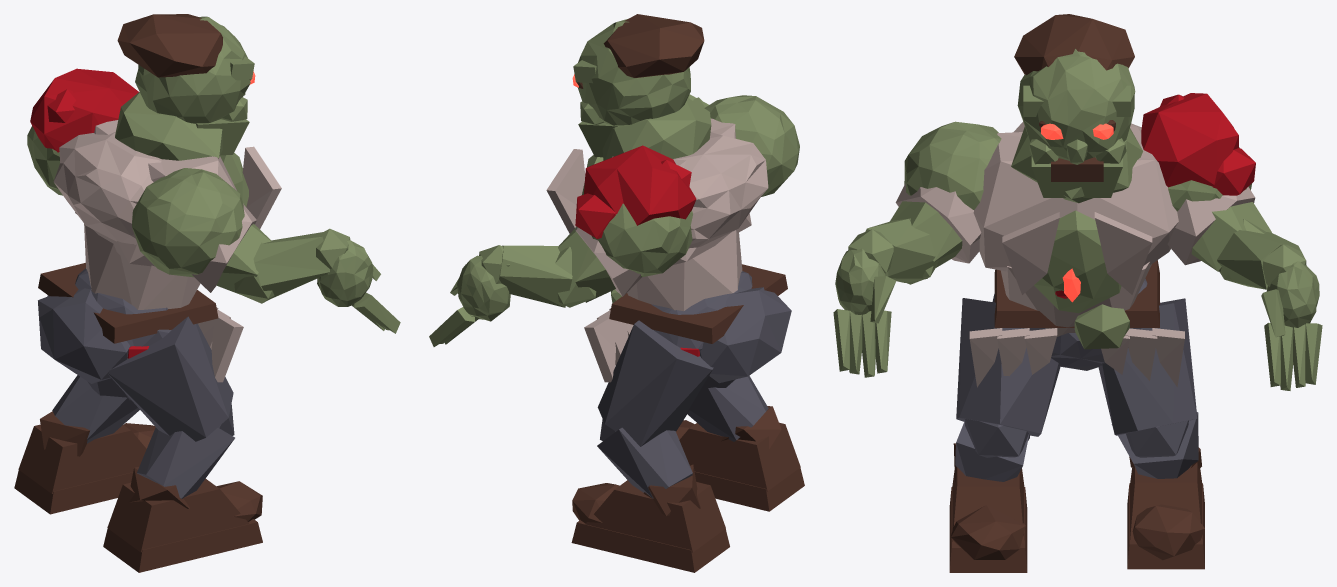
The model's file is inf.alpha.lod1.glb.
The picture shows the model from 3 angles, left to right: view 1: azimuth 30°, elevation 25°; view 2: azimuth 150°, elevation 25°; view 3: azimuth 270°, elevation 25°; orthographic projection. The views are drawn at different scales.
Visible parts, largest first — view 1: torso, head, armR, footR, hip, footL, legR, armL, shinR, handR, foreArmR, shinL; view 2: torso, armL, head, footL, hip, legL, footR, armR, foreArmL, shinL, handL, shinR; view 3: torso, head, armL, armR, footL, footR, handR, legR, handL, legL, hip, shinR (+3 smaller).
Boxes of the visible parts, x1,y1,x2,y2 form: torso: [53, 92, 281, 382]; head: [117, 14, 255, 155]; armR: [132, 168, 271, 294]; footR: [103, 467, 262, 572]; hip: [38, 263, 218, 383]; footL: [14, 411, 155, 514]; legR: [108, 316, 233, 441]; armL: [27, 68, 138, 195]; shinR: [137, 404, 234, 498]; handR: [316, 228, 400, 333]; foreArmR: [234, 232, 329, 303]; shinL: [52, 375, 139, 443]; torso: [546, 98, 768, 382]; armL: [558, 145, 696, 302]; head: [572, 14, 704, 157]; footL: [571, 464, 729, 572]; hip: [609, 264, 791, 383]; legL: [597, 320, 713, 446]; footR: [676, 406, 804, 511]; armR: [704, 95, 799, 196]; foreArmL: [499, 245, 596, 307]; shinL: [597, 419, 692, 498]; handL: [429, 245, 510, 346]; shinR: [687, 375, 768, 441]; torso: [969, 121, 1184, 387]; head: [1014, 14, 1135, 197]; armL: [1141, 93, 1271, 271]; armR: [890, 121, 1001, 267]; footL: [1127, 447, 1204, 569]; footR: [949, 443, 1027, 572]; handR: [833, 229, 895, 377]; legR: [956, 298, 1060, 436]; handL: [1261, 244, 1322, 390]; legL: [1098, 298, 1197, 435]; hip: [992, 260, 1159, 370]; shinR: [955, 419, 1030, 481].
Size of the model in its own units: 1.31 by 2.53 by 2.11.
